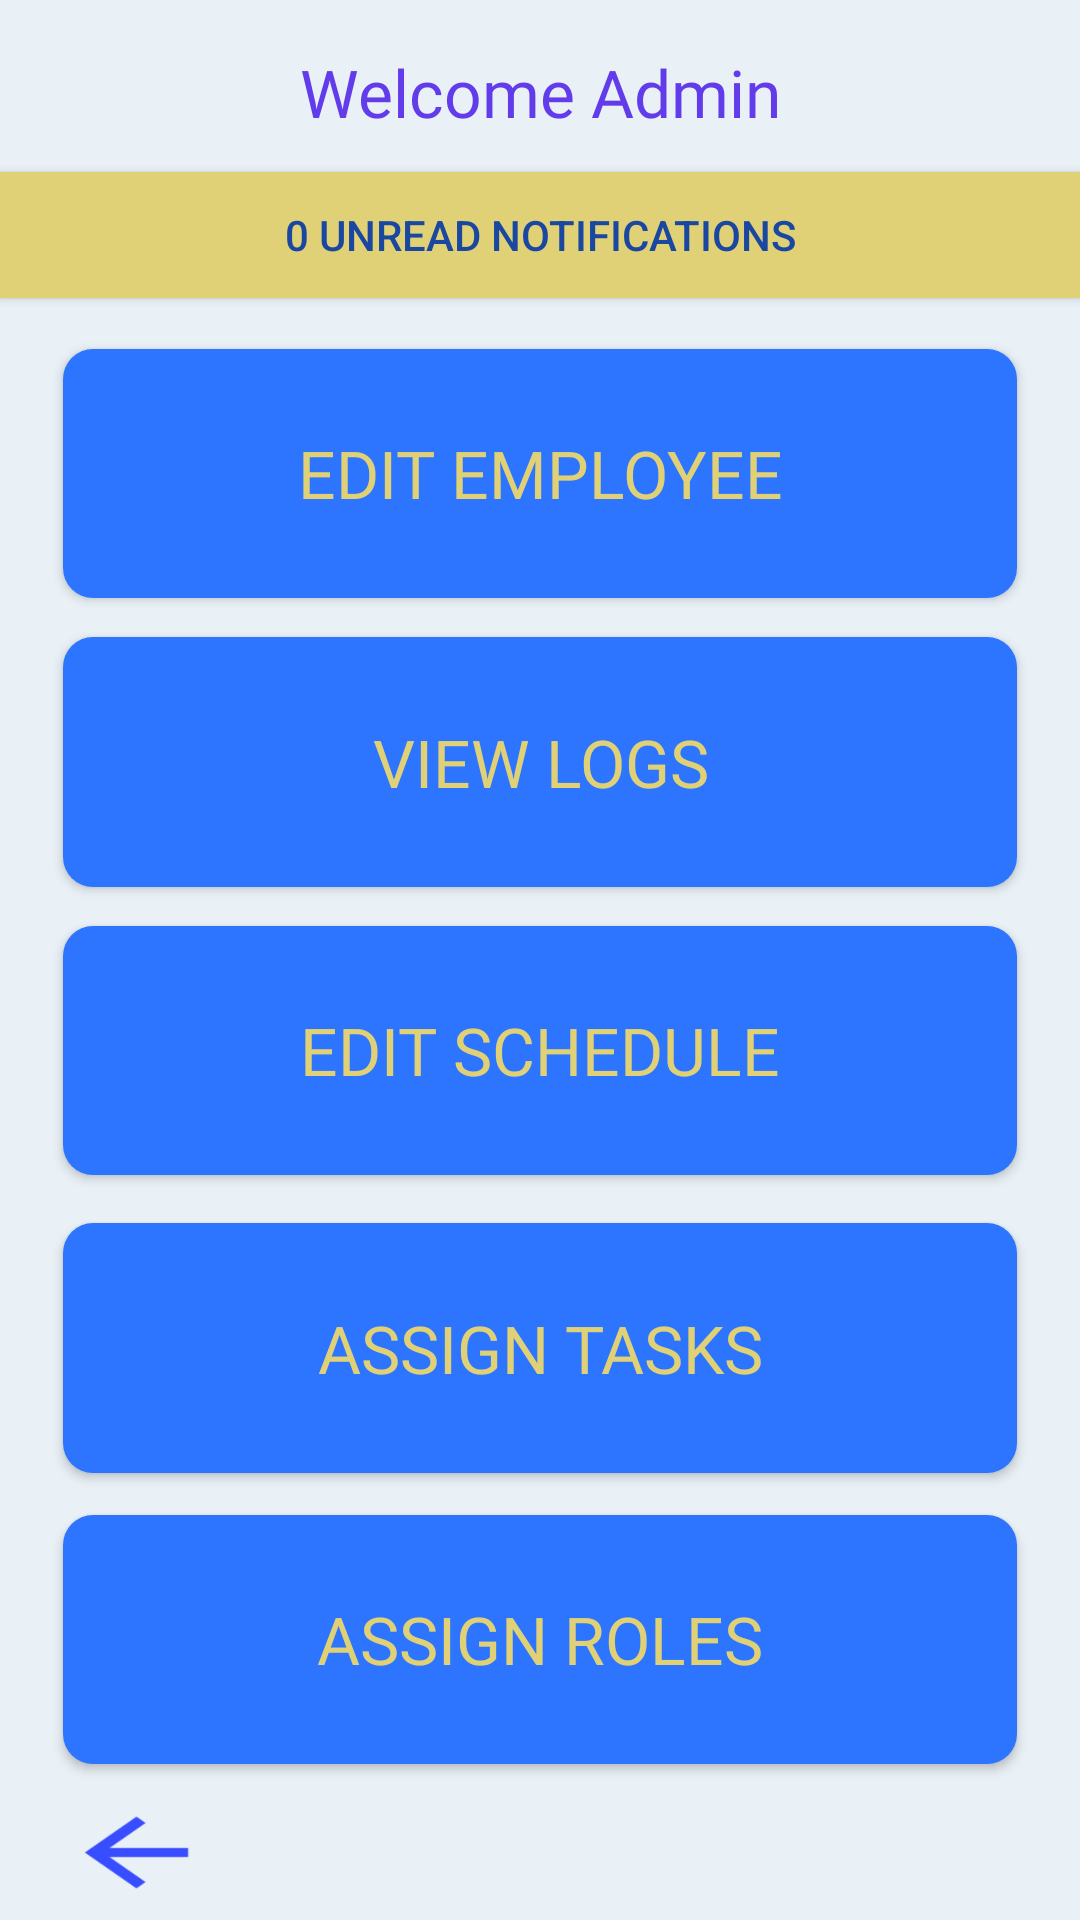

Screen size 1080w x 1920h. Icon name, then its box in pixels as (x1=x1, y1=y1, x2=x2, y2=y2):
back: (x1=85, y1=1816, x2=189, y2=1889)
